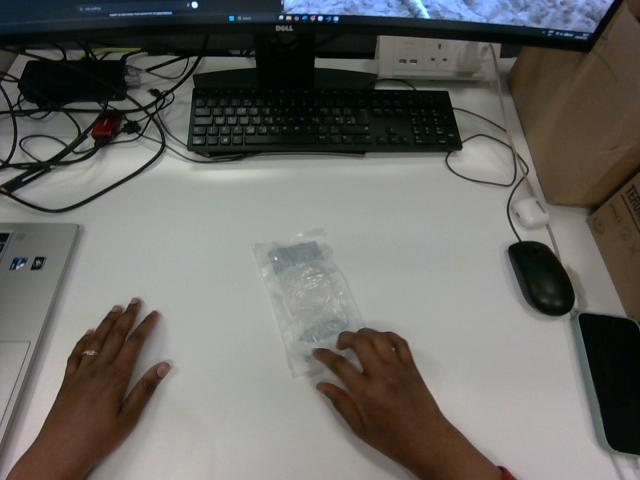gallipot: (254, 229, 363, 376)
